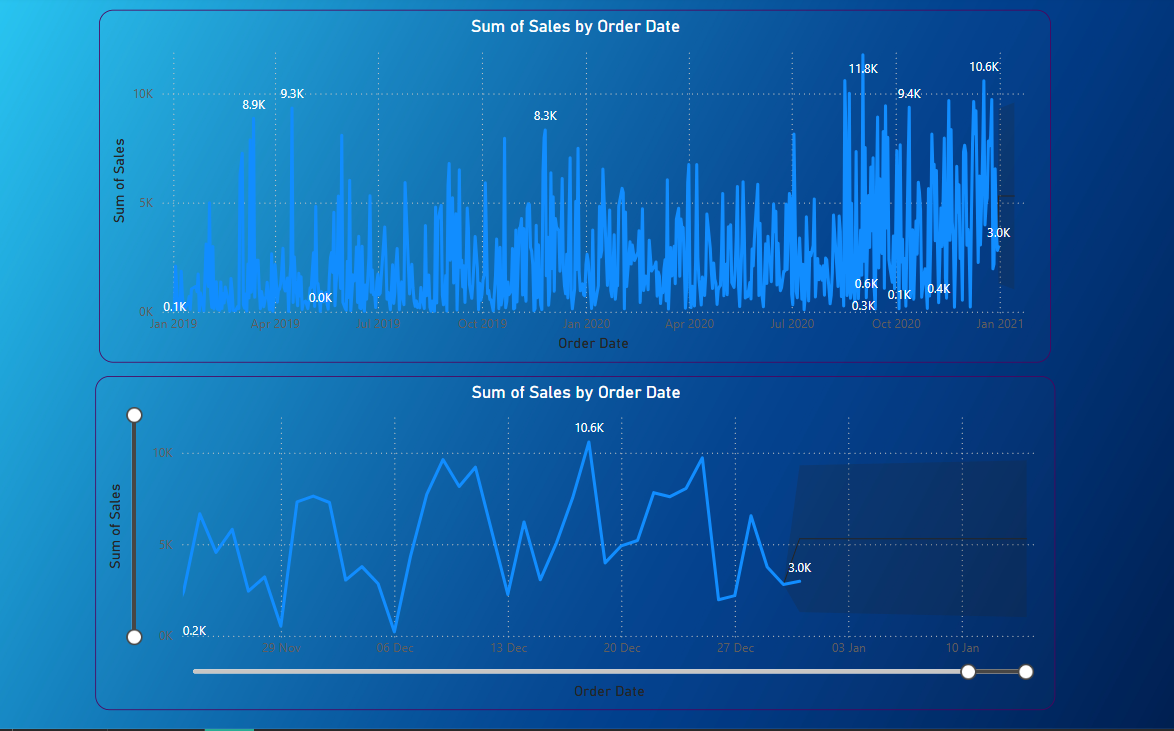

Layout of this report page (visuals, bound fields, positions):
{"tool":"powerbi","page":{"name":"Page 2","canvas":[1280,720],"ordinal":1},"visuals":[{"type":"lineChart","fields":{"Y":["Sum(SuperStore_Sales_Dataset.Sales)"],"Category":["SuperStore_Sales_Dataset.Order Date"]},"box":[206.6,14,934,346.2],"z":0},{"type":"lineChart","fields":{"Y":["Sum(SuperStore_Sales_Dataset.Sales)"],"Category":["SuperStore_Sales_Dataset.Order Date"]},"box":[202.4,372.8,942.4,328.1],"z":1000}]}

Visuals, with their boxes on the page's 1280x720 design canvas (x1, y1, x2, y2). These are canvas units, not pixel positions in the 1174x731 screenshot, which may show the page scaled, cropped or inside an application window:
lineChart - Sum(SuperStore_Sales_Dataset.Sales) x SuperStore_Sales_Dataset.Order Date: [207,14,1141,360]
lineChart - Sum(SuperStore_Sales_Dataset.Sales) x SuperStore_Sales_Dataset.Order Date: [202,373,1145,701]
